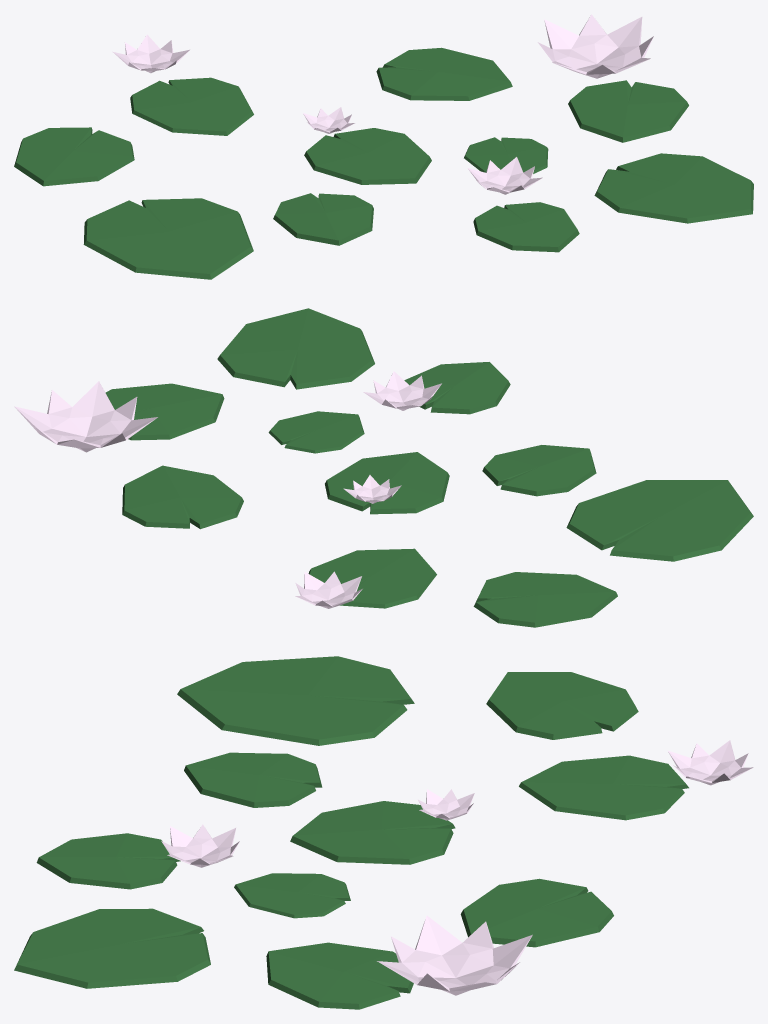
Rendered from Lili_2 Asia.fbx.
The picture shows the model from 3 angles, top to bottom: view 1: azimuth 30°, elevation 25°; view 2: azimuth 150°, elevation 25°; view 3: azimuth 270°, elevation 25°; orthographic projection. The views are drawn at different scales.
Visible parts, largest first — view 1: Lili_2; view 2: Lili_2; view 3: Lili_2.
Part boxes in pixels (x1,y1,x2,y2): Lili_2: (14,14,753,279); Lili_2: (14,308,753,627); Lili_2: (14,656,753,1009).
Bounding box in the file's own units: 1.26 × 0.0803 × 1.09.
